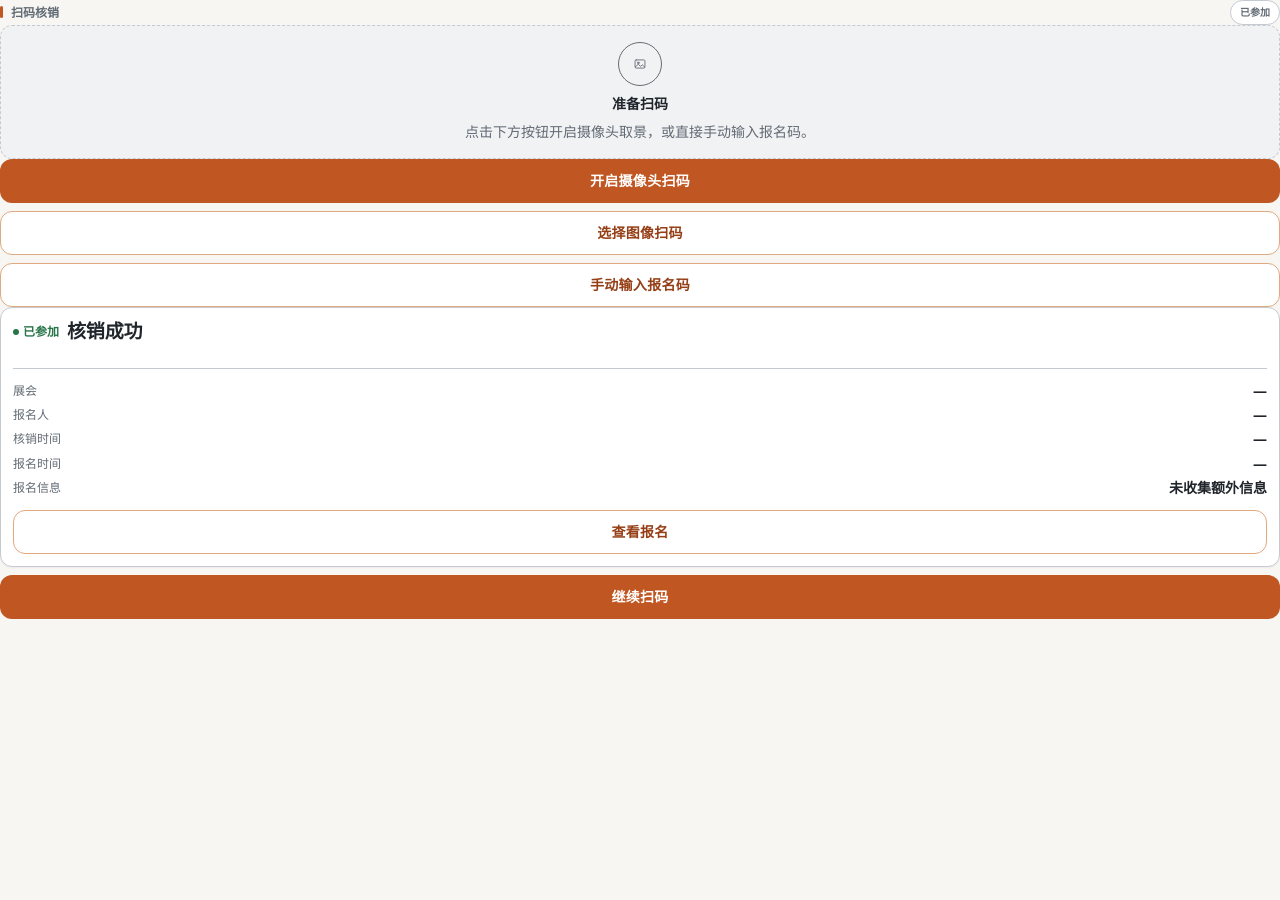
手动输入报名码走面板 › 空码提交留在面板里就地提示，不发核销请求
Click the button "手动输入报名码" at [640, 285], box [0,263,1279,307]
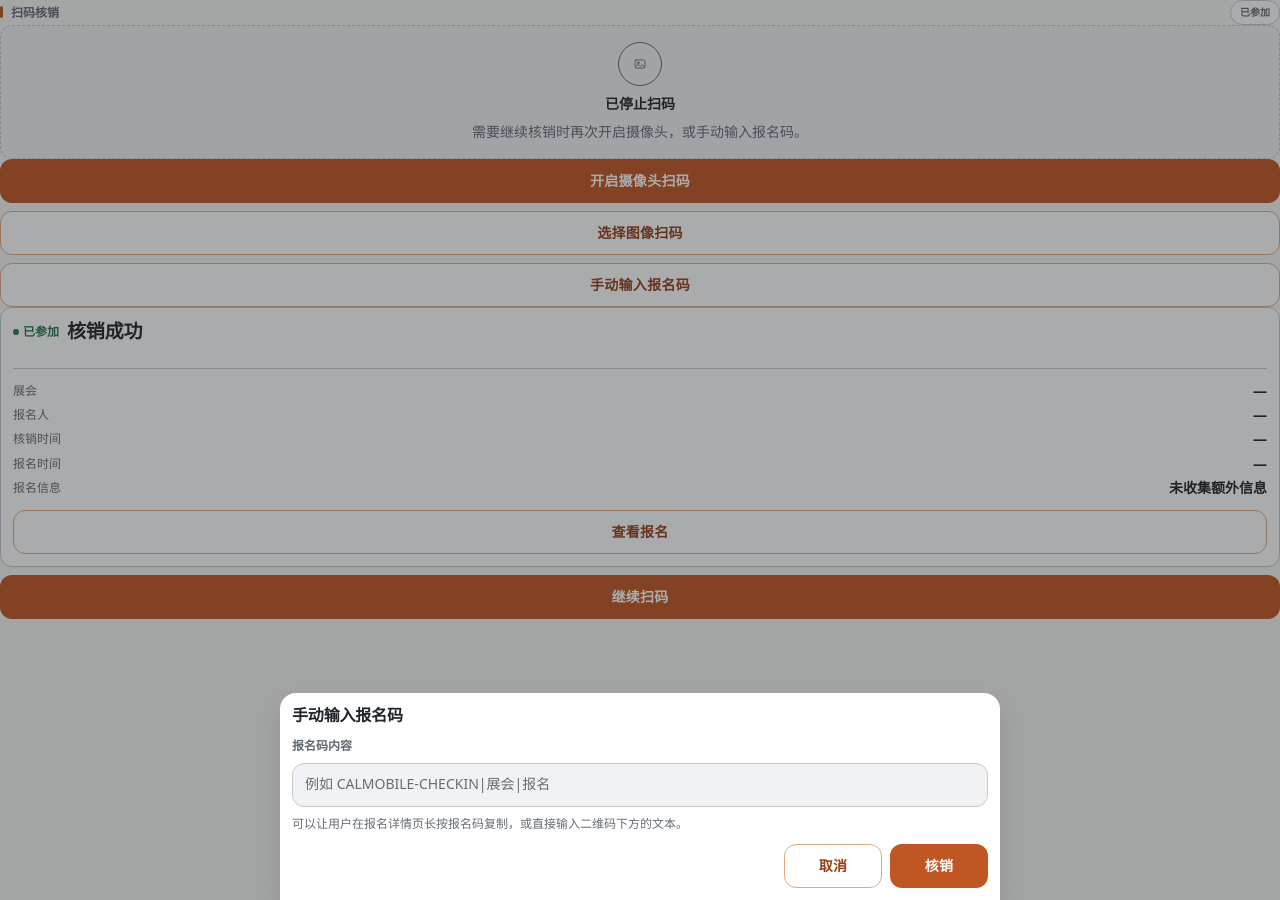
Click the button "核销" at [939, 866], box [890,844,988,888]
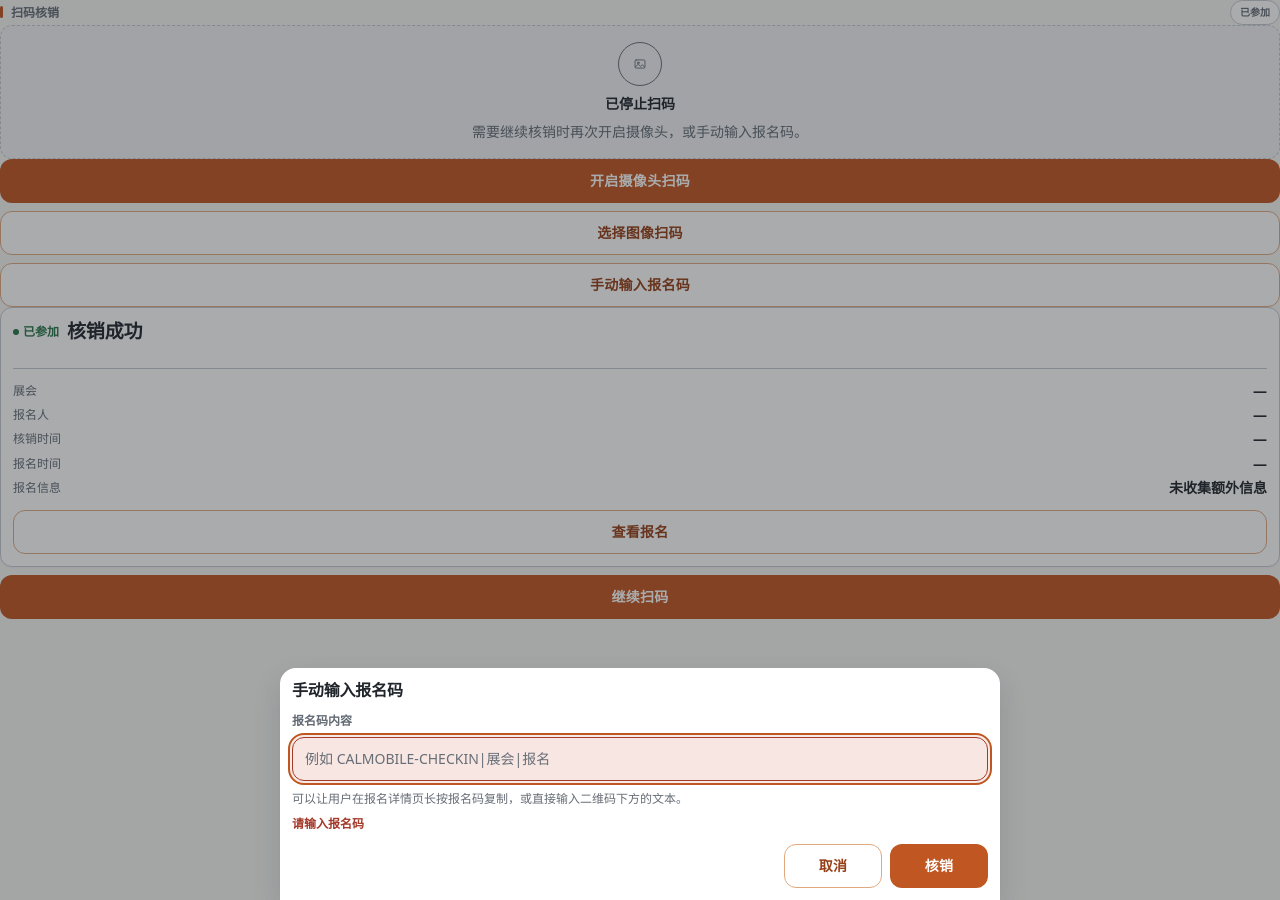
Expected: the field with id "checkin-code" is shown, [292,737,988,781]
Expected: the message with class "field-error" reads "请输入报名码", [292,815,364,832]
